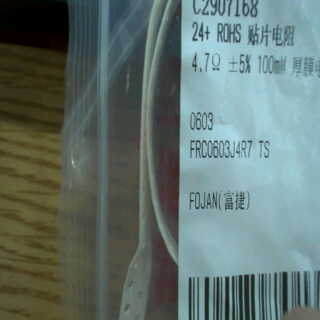4.7R: (185, 48, 227, 77)
